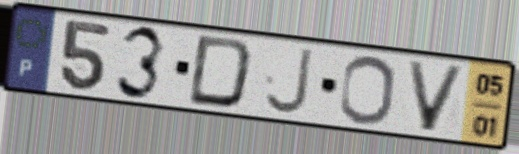3: (111, 24, 175, 103)
5: (58, 15, 114, 94)
D: (184, 33, 257, 112)
J: (261, 45, 315, 117)
O: (336, 53, 397, 128)
V: (403, 58, 469, 135)
